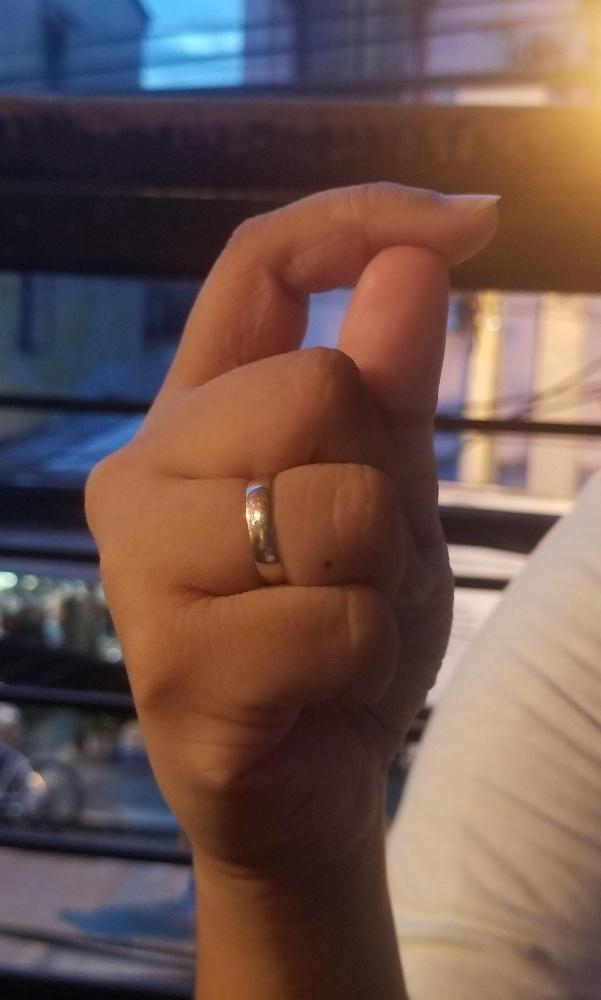t: (76, 170, 505, 852)
